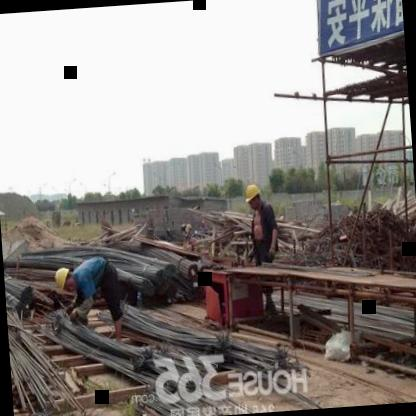helmet: (54, 266, 80, 295), (246, 181, 264, 214)
